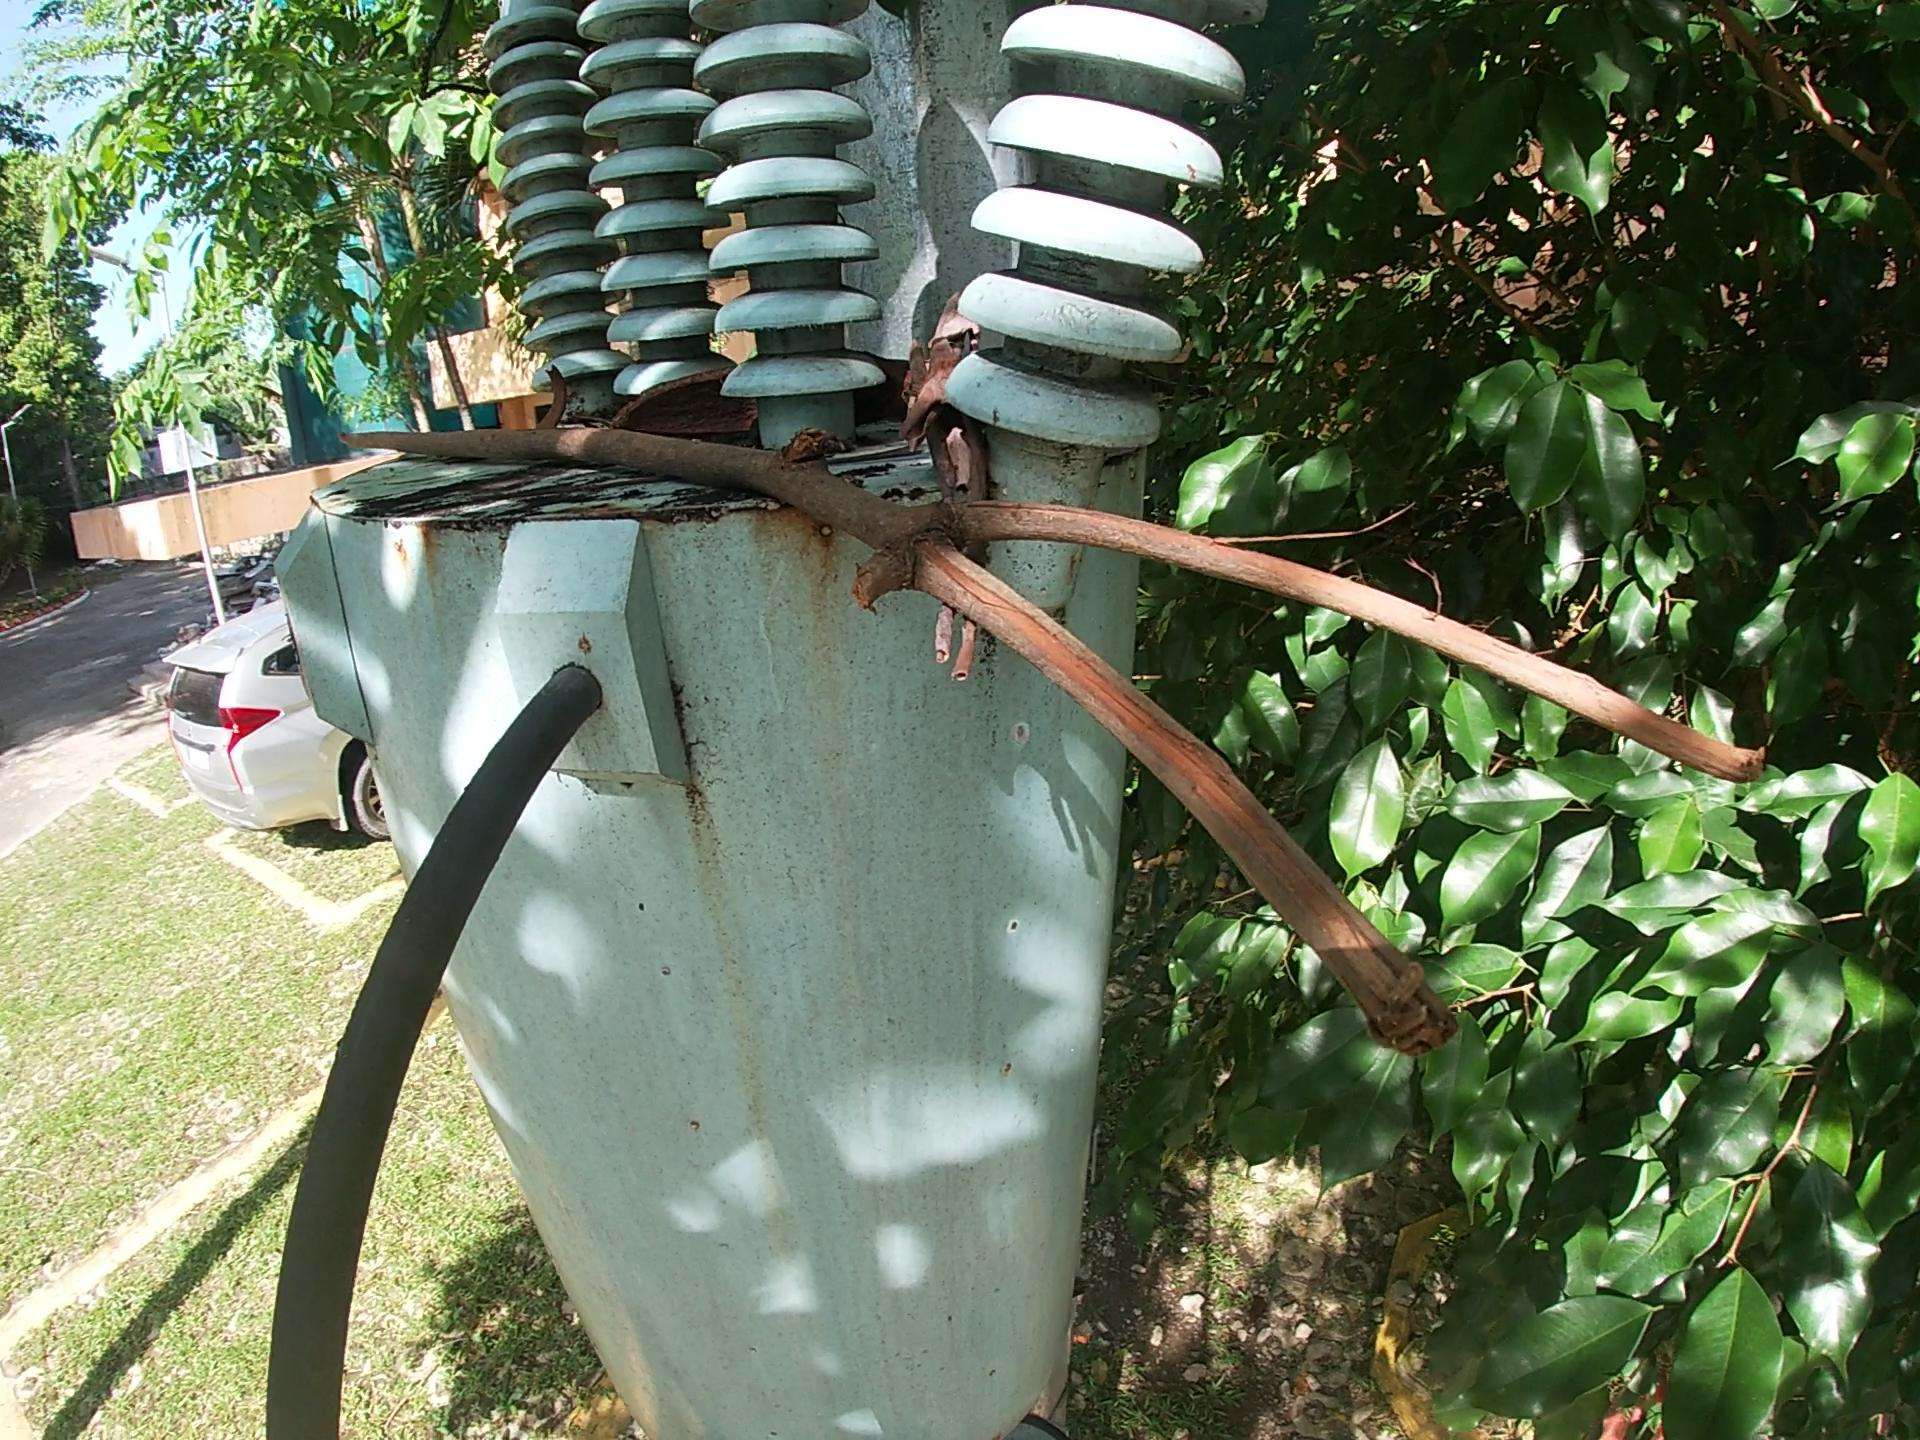mahogany fruit: (609, 352, 921, 452), (534, 365, 579, 425)
tree branch: (325, 417, 1773, 1063), (890, 278, 999, 688)
